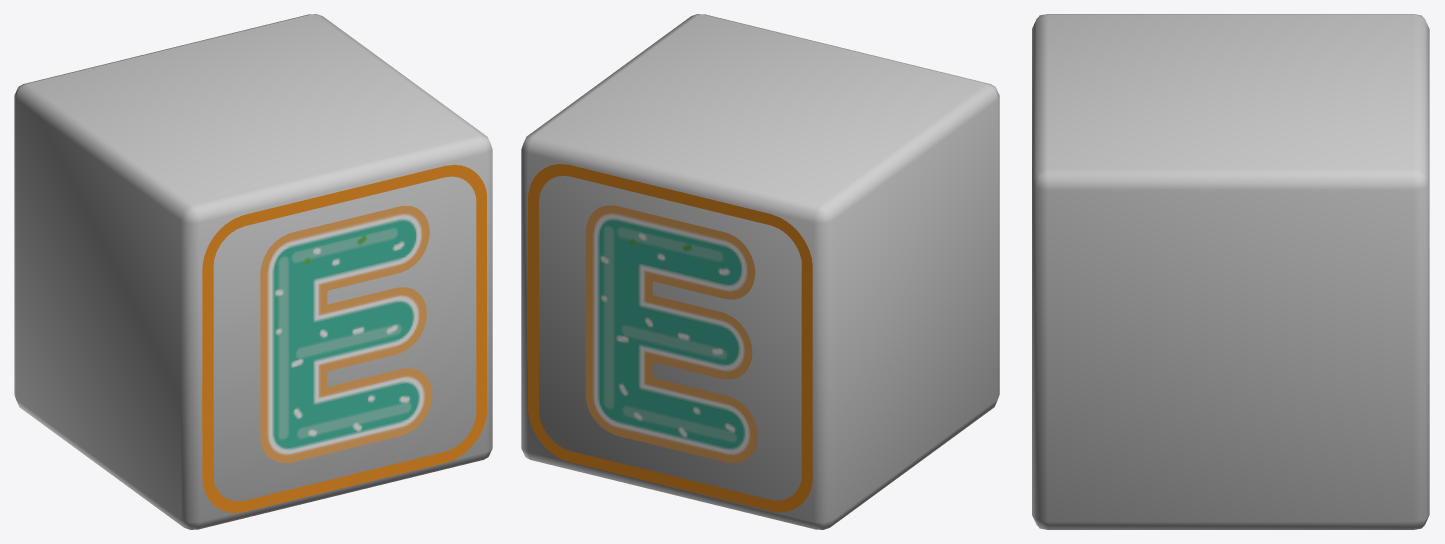
File: Child_Cube_E.FBX
3 renders of one model, left to right at view 1: azimuth 30°, elevation 25°; view 2: azimuth 150°, elevation 25°; view 3: azimuth 270°, elevation 25°, orthographic. The views are drawn at different scales.
Visible parts, largest first — view 1: Child_Cube_E; view 2: Child_Cube_E; view 3: Child_Cube_E.
Part boxes in pixels (bbox=[...]): Child_Cube_E: bbox=[14, 14, 492, 529]; Child_Cube_E: bbox=[521, 14, 999, 529]; Child_Cube_E: bbox=[1032, 14, 1429, 529].
Bounding box in the file's own units: 0.2122 × 0.2122 × 0.2149.
